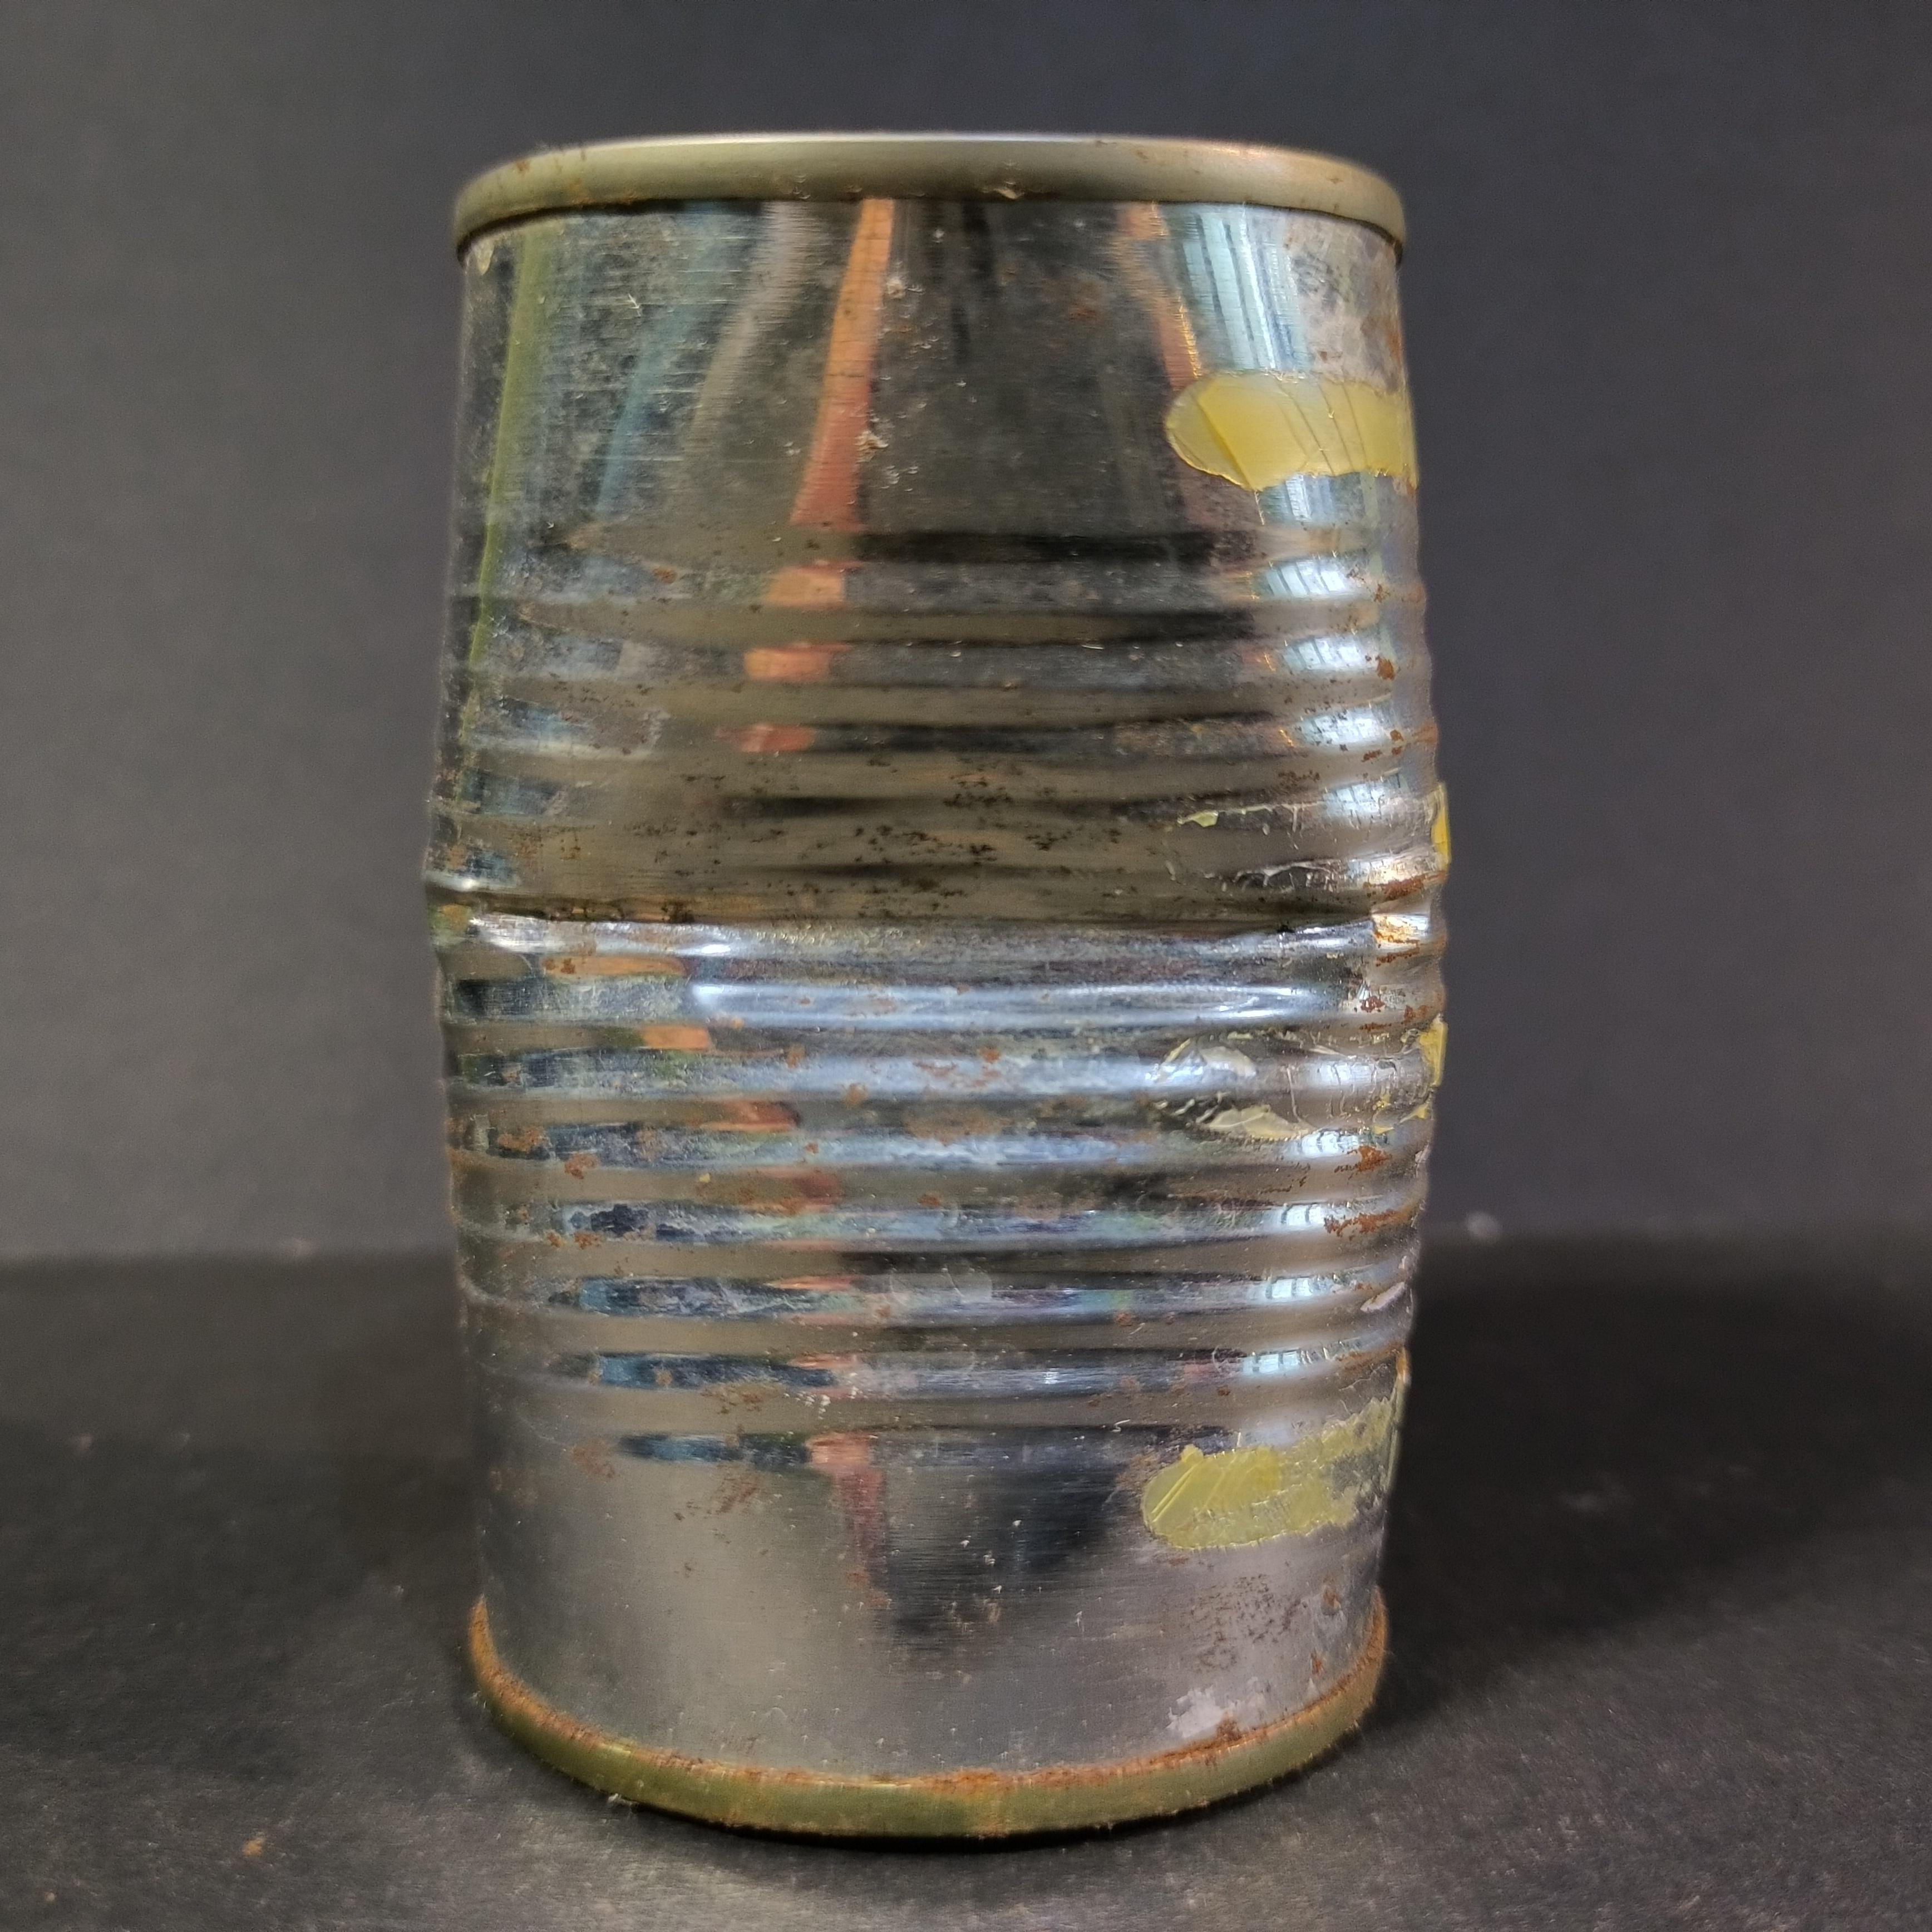Dented: (414, 97, 1449, 1861)
